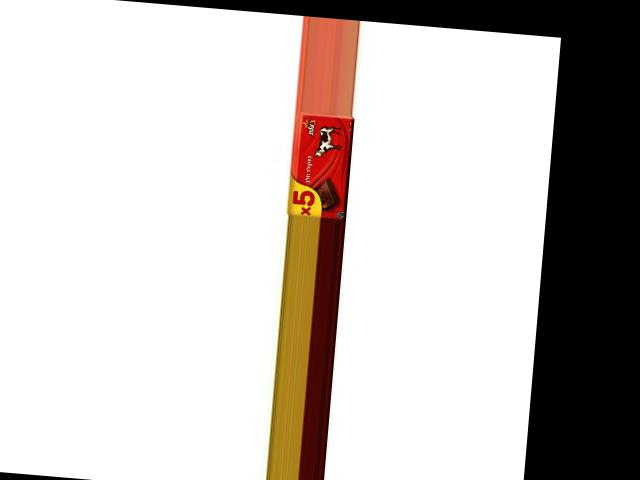chocolate: (284, 110, 354, 219)
